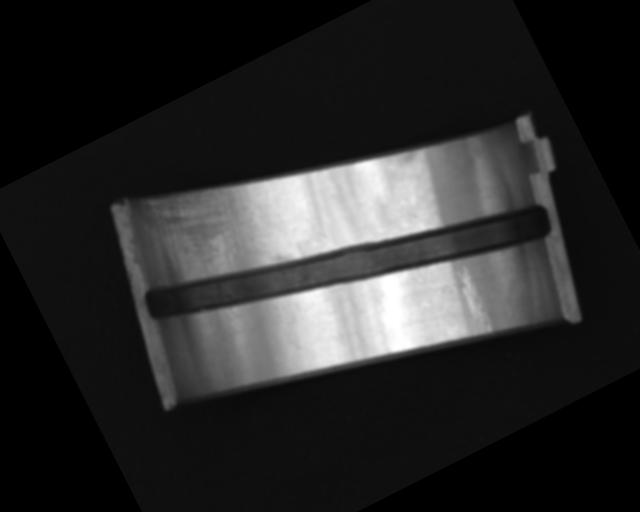gap: (141, 113, 557, 412)
nick: (449, 263, 501, 340)
scratch: (133, 151, 292, 313)
